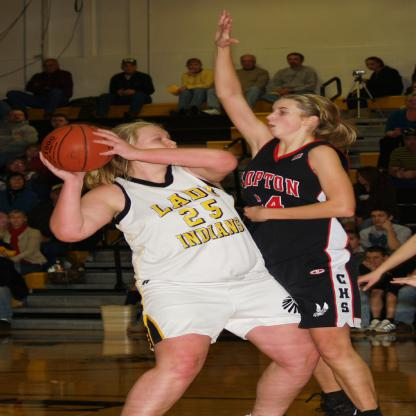Ball: (39, 124, 119, 173)
